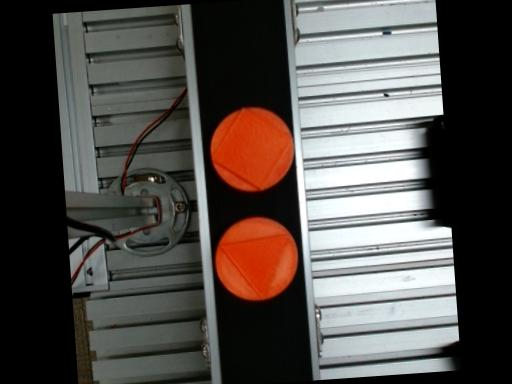Not_Square: (216, 235, 289, 300)
Orange_Waper: (214, 216, 297, 301), (209, 107, 292, 191)
Square: (210, 108, 291, 190)
